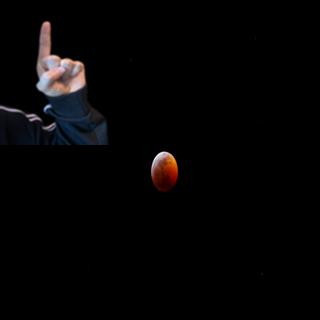IRRITATED: (31, 19, 88, 97)
